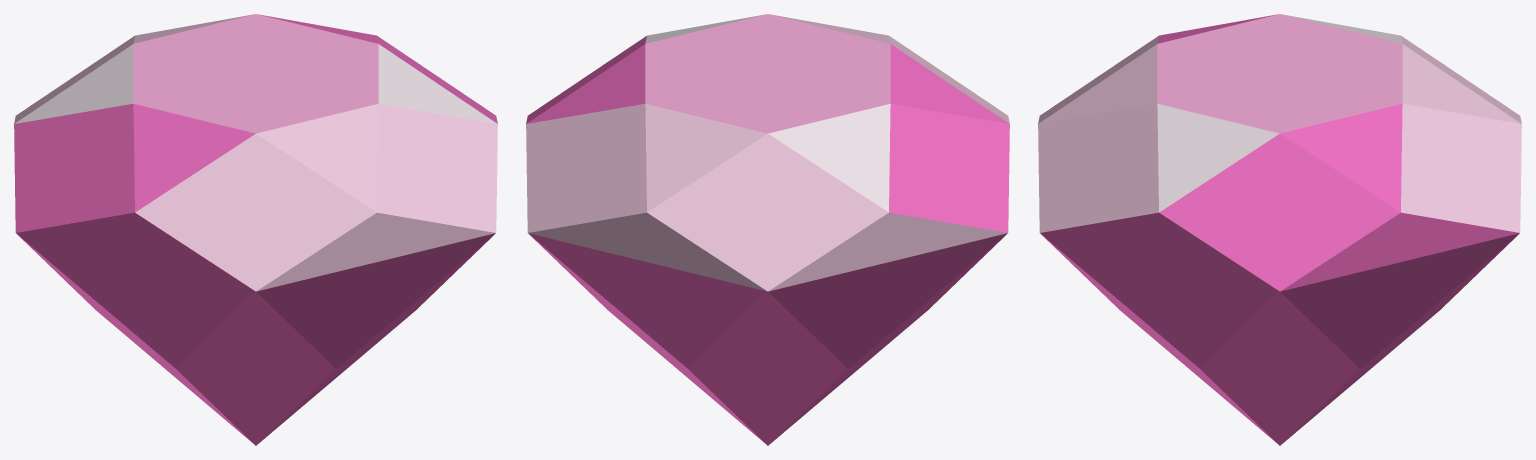
Rendered from diamondt.fbx.
3 views of the same model, side by side, from view 1: azimuth 30°, elevation 25°; view 2: azimuth 150°, elevation 25°; view 3: azimuth 270°, elevation 25° (orthographic).
Parts seen in each view (by area): view 1: diamond; view 2: diamond; view 3: diamond.
Part boxes in pixels (bbox=[...]): diamond: bbox=[14, 14, 497, 445]; diamond: bbox=[526, 14, 1009, 445]; diamond: bbox=[1038, 14, 1521, 445].
Bounding box in the file's own units: 141 × 105 × 123.
